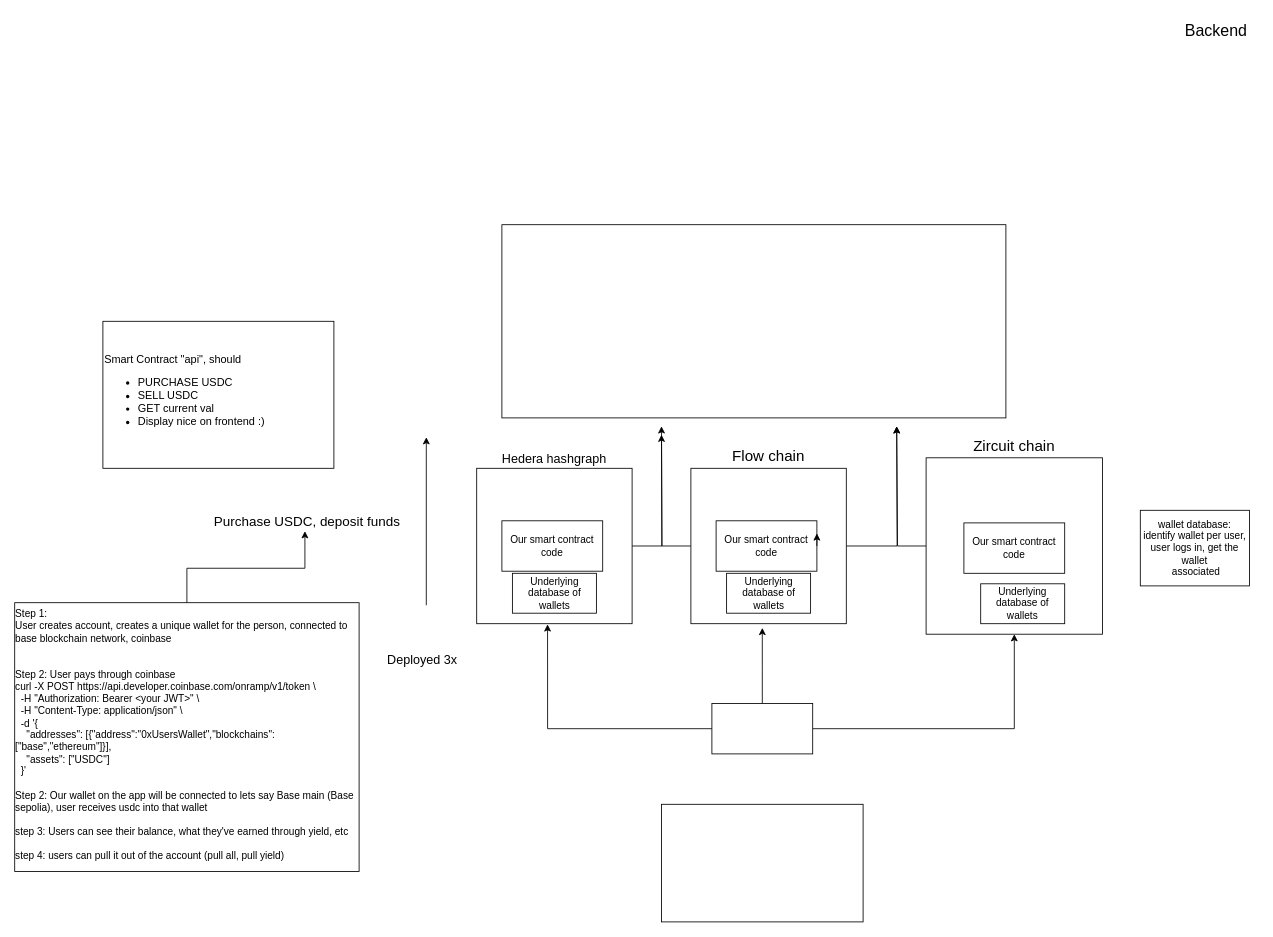
This 1273x937 diagram has some shape labels left out. The shapes that lost their labels are listed below. From the top down, each one's centre as x and y in pixels, then its label:
point (753, 321): Users Wallets (Base blockchain)
point (762, 728): Frontend (website) js, css
point (762, 862): Why Hedera: Hipaa compliance Why Flow: Why Zircuit: Ai protection Gas price?
